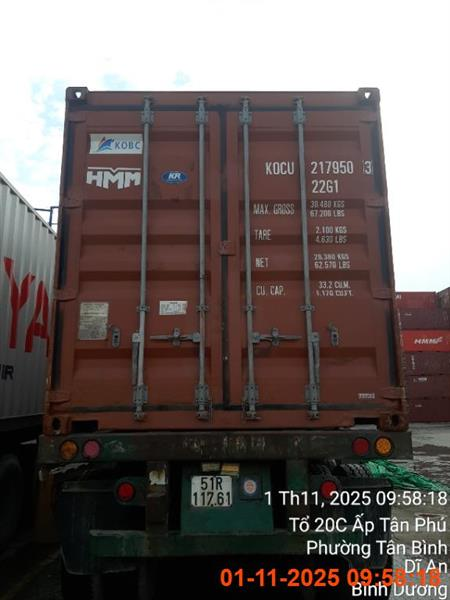broken: (36, 87, 416, 599), (0, 171, 56, 559)
